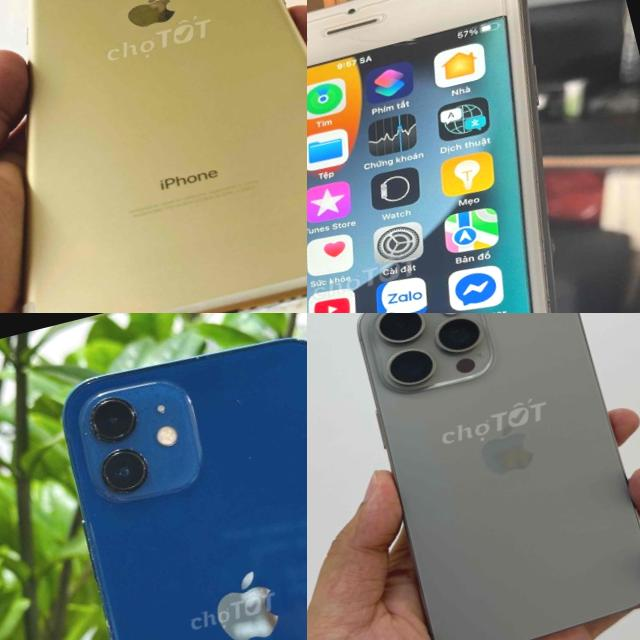gen_12_13: (43, 320, 307, 640)
gen_15: (334, 313, 640, 640)
gen_6: (307, 0, 640, 313)
gen_7_8: (23, 0, 307, 313)
